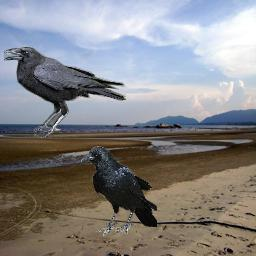Crow: (4, 47, 126, 138), (79, 146, 157, 236)
